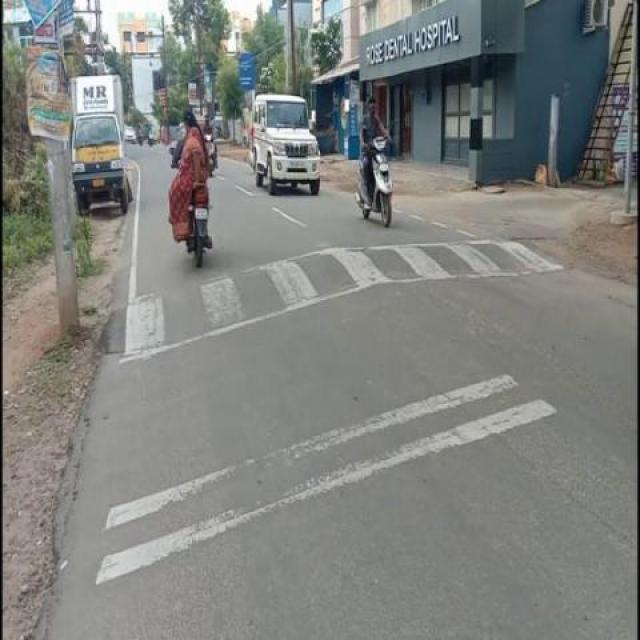Speed Bump: (245, 240, 560, 324), (106, 268, 246, 352)
